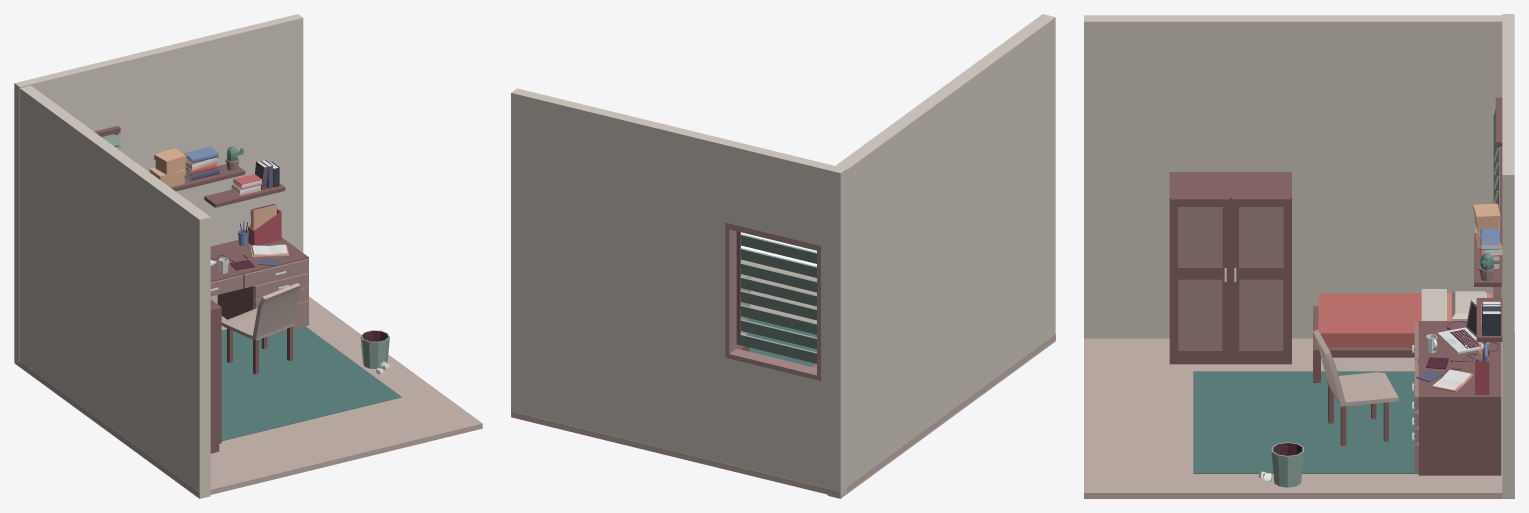
Rendered from simple-isometric-bed-room.fbx.
3 renders of one model, left to right at view 1: azimuth 30°, elevation 25°; view 2: azimuth 150°, elevation 25°; view 3: azimuth 270°, elevation 25°, orthographic. The views are drawn at different scales.
Parts seen in each view (by area): view 1: pCube56_BrownLight_0, pCube55_BrownLight_0, pCube1_BrownMedium_0, pCube66_GreenDark_0, polySurface265_MagonyLight_0, polySurface241_BrownMedium_0, polySurface248_MagonyLight_0, pCube79_OcreLight_0, polySurface423_BrownDark_0, polySurface416_GreenLight_0, polySurface392_OrangeDark_0, pCube57_MagonyLight_0 (+3 smaller); view 2: pCube55_BrownLight_0, pCube56_BrownLight_0, polySurface280_GreenLight_0, pCube1_BrownMedium_0, pCube55_BrownDark_0, pCube66_GreenDark_0; view 3: pCube56_BrownLight_0, pCube1_BrownMedium_0, pCube66_GreenDark_0, polySurface265_MagonyLight_0, pCube55_BrownLight_0, polySurface292_BrownDark_0, polySurface289_BrownDark_0, pCube7_OrangeMedium_0, polySurface248_MagonyLight_0, polySurface292_MagonyLight_0, polySurface289_MagonyLight_0, polySurface241_BrownMedium_0 (+11 smaller).
Part boxes in pixels (left/top/right/bottom): pCube56_BrownLight_0: left=14, top=85, right=210, bottom=498; pCube55_BrownLight_0: left=14, top=14, right=303, bottom=364; pCube1_BrownMedium_0: left=14, top=296, right=482, bottom=497; pCube66_GreenDark_0: left=221, top=326, right=401, bottom=441; polySurface265_MagonyLight_0: left=210, top=237, right=308, bottom=319; polySurface241_BrownMedium_0: left=221, top=283, right=300, bottom=340; polySurface248_MagonyLight_0: left=210, top=302, right=219, bottom=453; pCube79_OcreLight_0: left=149, top=148, right=186, bottom=187; polySurface423_BrownDark_0: left=243, top=259, right=308, bottom=288; polySurface416_GreenLight_0: left=360, top=330, right=389, bottom=368; polySurface392_OrangeDark_0: left=248, top=208, right=281, bottom=245; pCube57_MagonyLight_0: left=204, top=183, right=285, bottom=207; pCube55_BrownLight_0: left=511, top=88, right=846, bottom=496; pCube56_BrownLight_0: left=827, top=14, right=1055, bottom=498; polySurface280_GreenLight_0: left=736, top=234, right=816, bottom=363; pCube1_BrownMedium_0: left=511, top=259, right=1055, bottom=497; pCube55_BrownDark_0: left=725, top=223, right=820, bottom=380; pCube66_GreenDark_0: left=747, top=318, right=816, bottom=366; pCube56_BrownLight_0: left=1084, top=15, right=1502, bottom=338; pCube1_BrownMedium_0: left=1084, top=332, right=1514, bottom=498; pCube66_GreenDark_0: left=1193, top=371, right=1418, bottom=473; polySurface265_MagonyLight_0: left=1418, top=321, right=1501, bottom=475; pCube55_BrownLight_0: left=1502, top=14, right=1514, bottom=498; polySurface292_BrownDark_0: left=1178, top=207, right=1222, bottom=350; polySurface289_BrownDark_0: left=1239, top=207, right=1283, bottom=350; pCube7_OrangeMedium_0: left=1318, top=293, right=1421, bottom=347; polySurface248_MagonyLight_0: left=1169, top=172, right=1291, bottom=364; polySurface292_MagonyLight_0: left=1171, top=197, right=1229, bottom=357; polySurface289_MagonyLight_0: left=1232, top=197, right=1290, bottom=357; polySurface241_BrownMedium_0: left=1313, top=329, right=1398, bottom=406.
Size of the model in its own units: 2666 by 2519 by 3018.
